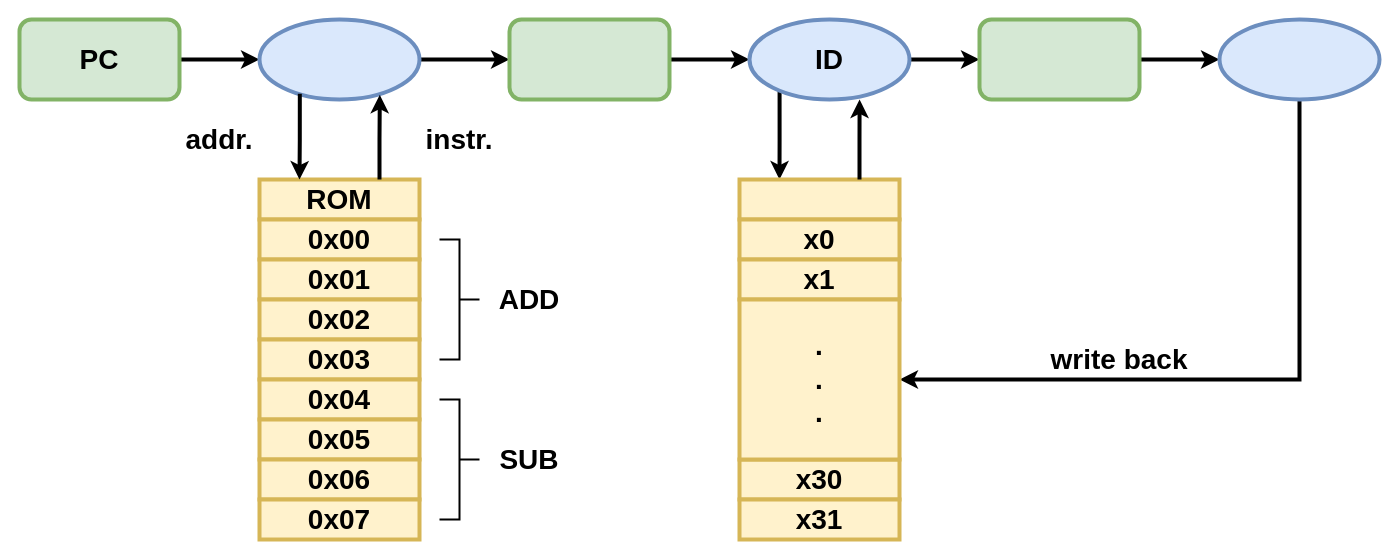
Some shapes in this 1398 by 558 pixel diagram are drawn without their labels. Each missing label, with the centre of its shape:
"EX" belongs at (1299,59).
"ID_EX" belongs at (1059,59).
"IF" belongs at (339,59).
"IF_ID" belongs at (589,59).
"REG" belongs at (819,199).
